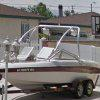Boat: (2, 18, 99, 94)
